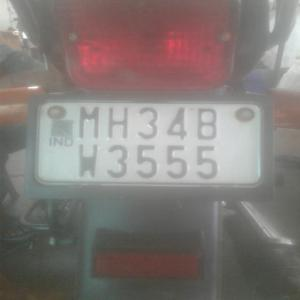Plate: (40, 100, 260, 185)
